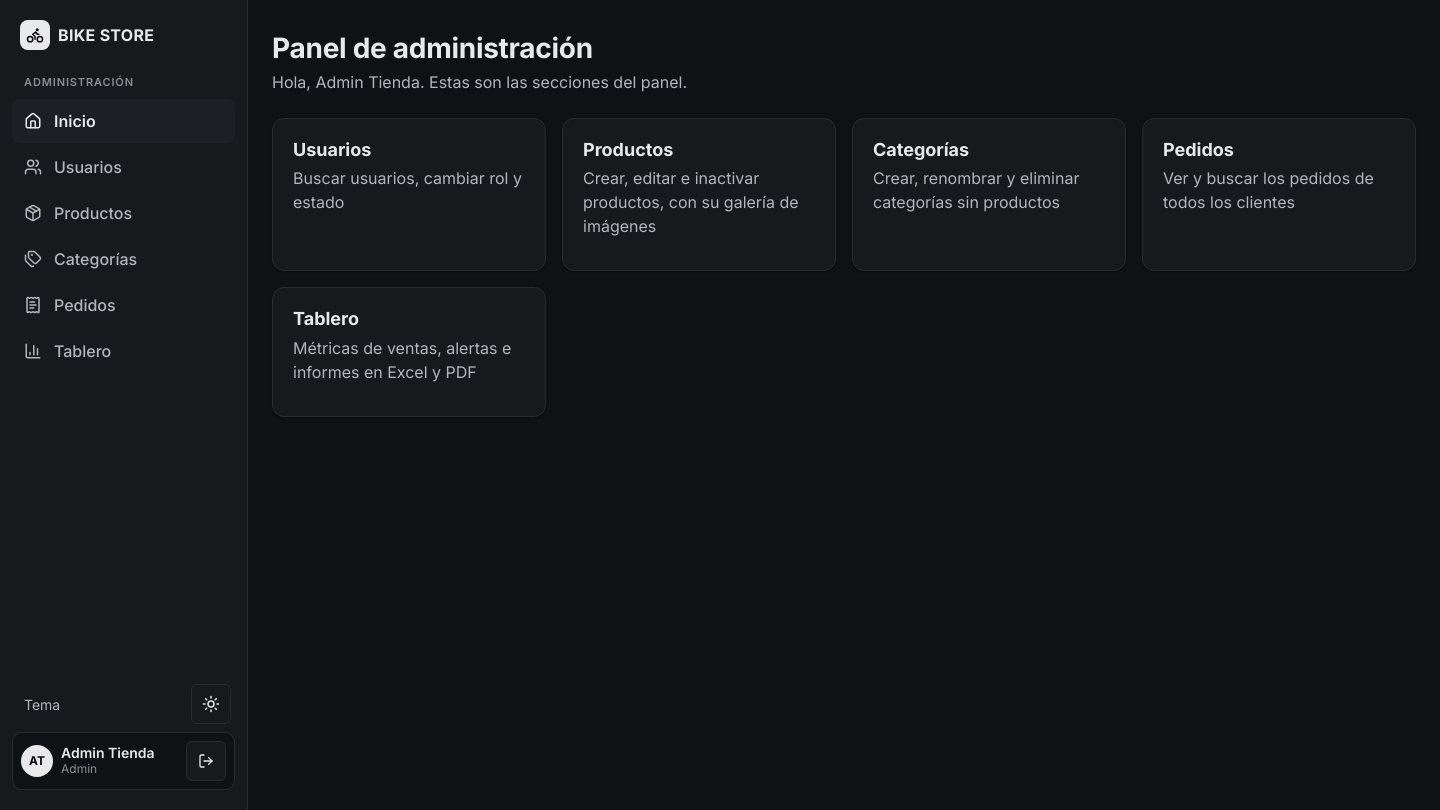
Scenario: Acceso › desde el inicio del panel, la tarjeta 'Productos' lleva a la página
Click the link "Productos" below ". Estas son las secciones del panel." at (628, 149), box [583,139,673,160]
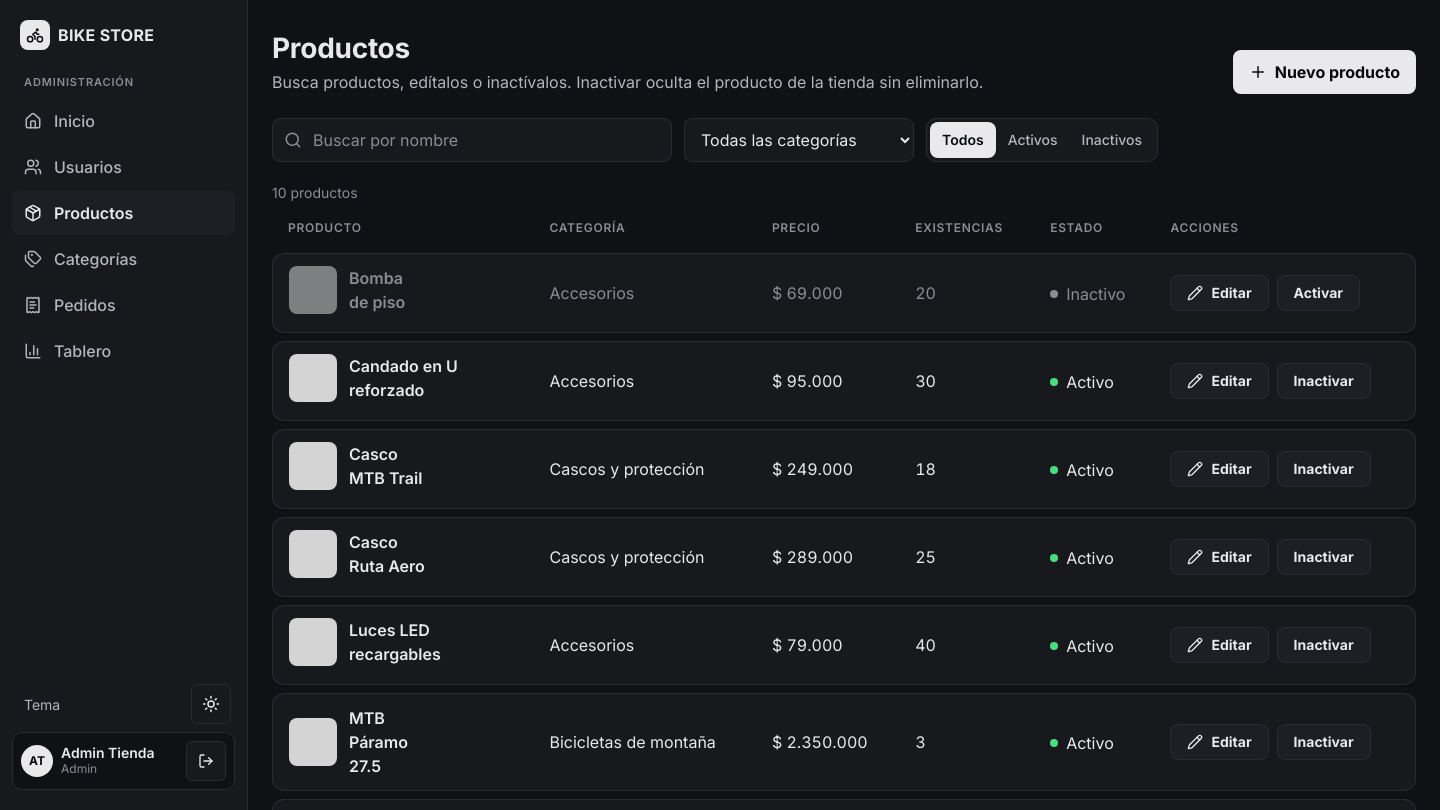
Result: the heading "Productos" is shown at [272,31,410,65]
